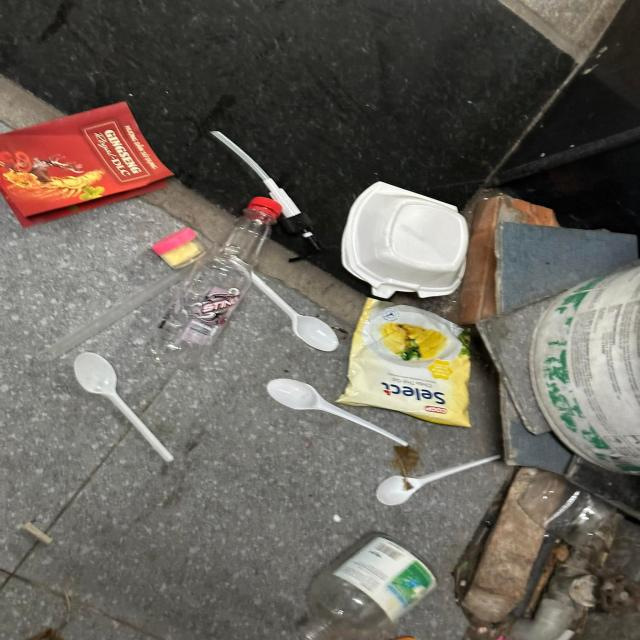bottle: (152, 197, 283, 369), (305, 532, 438, 640)
foam box: (344, 182, 468, 299)
paper: (0, 102, 173, 230)
plastic holder: (152, 226, 208, 270)
plastic utensil: (76, 354, 174, 464), (229, 256, 339, 352), (267, 379, 408, 447), (378, 456, 502, 506)
snack package: (339, 298, 473, 430)
